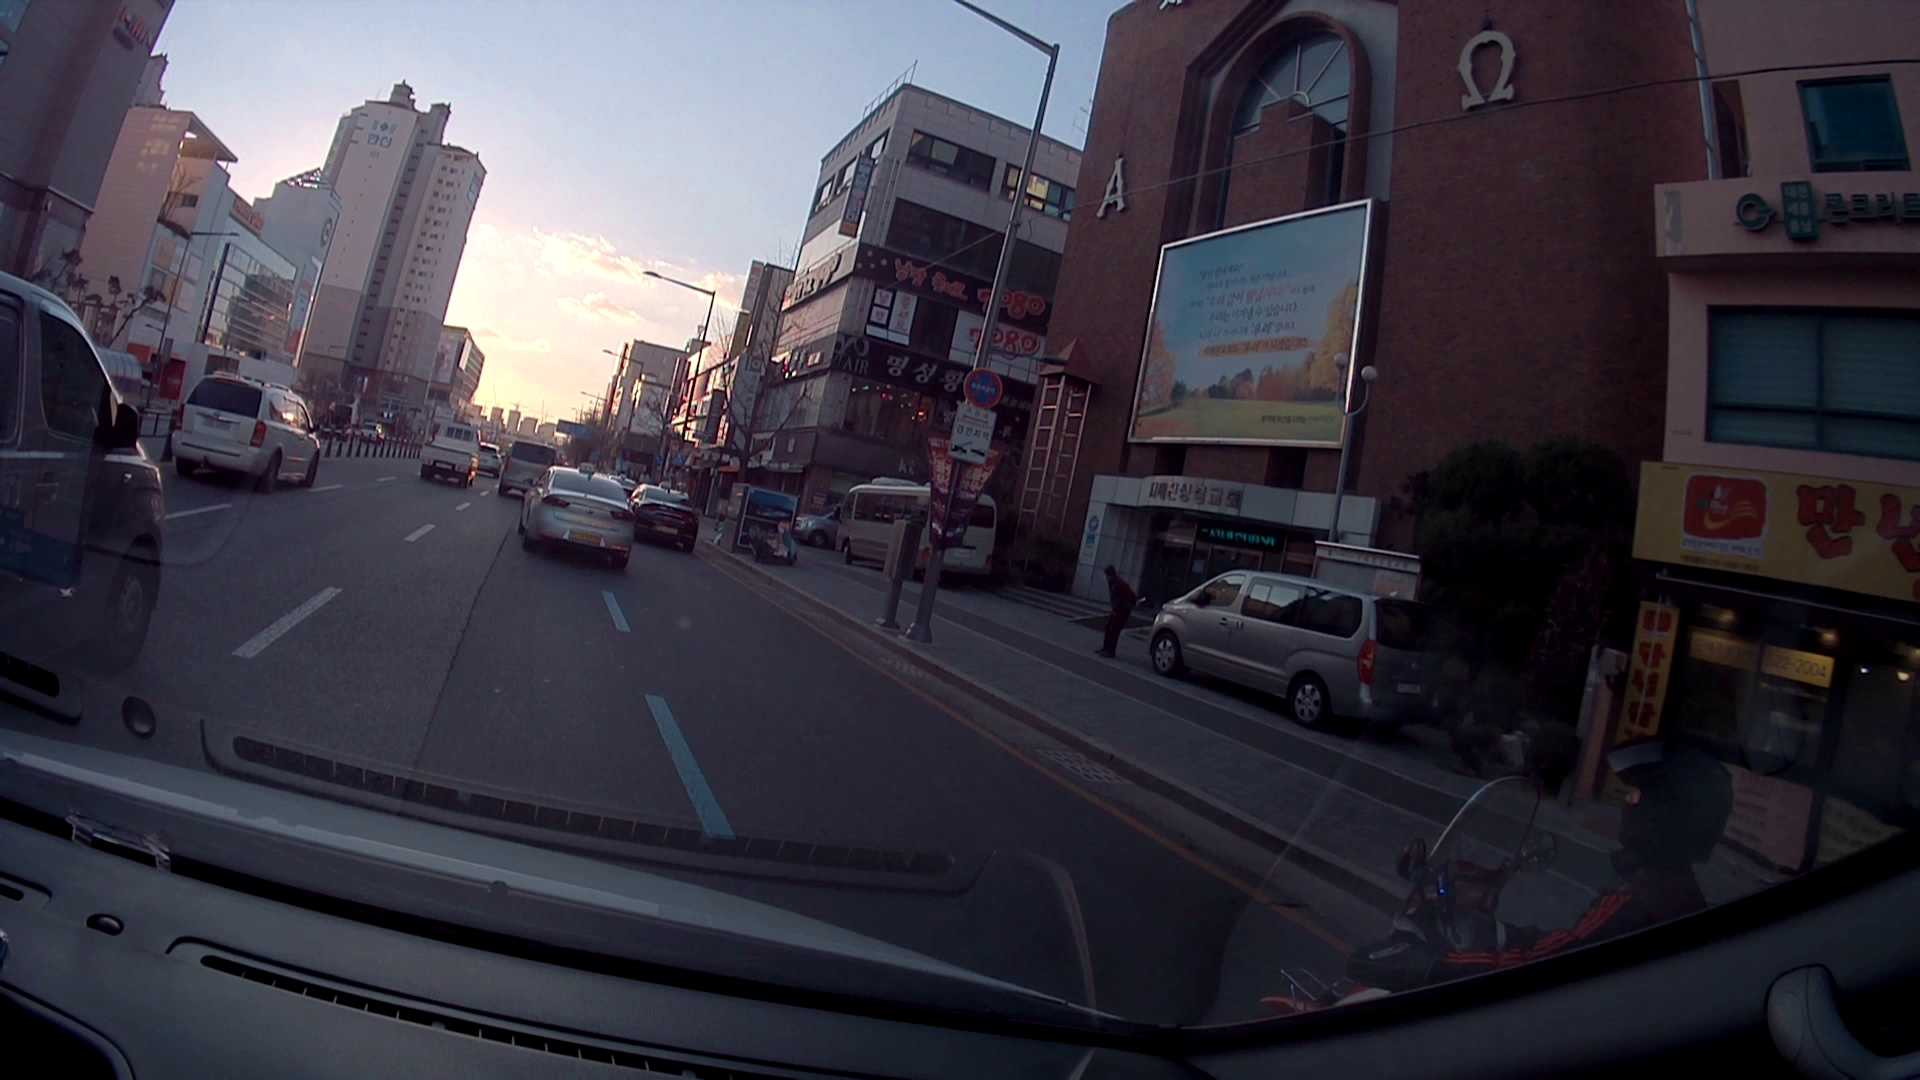trafficSignCircle: (960, 359, 1006, 411)
